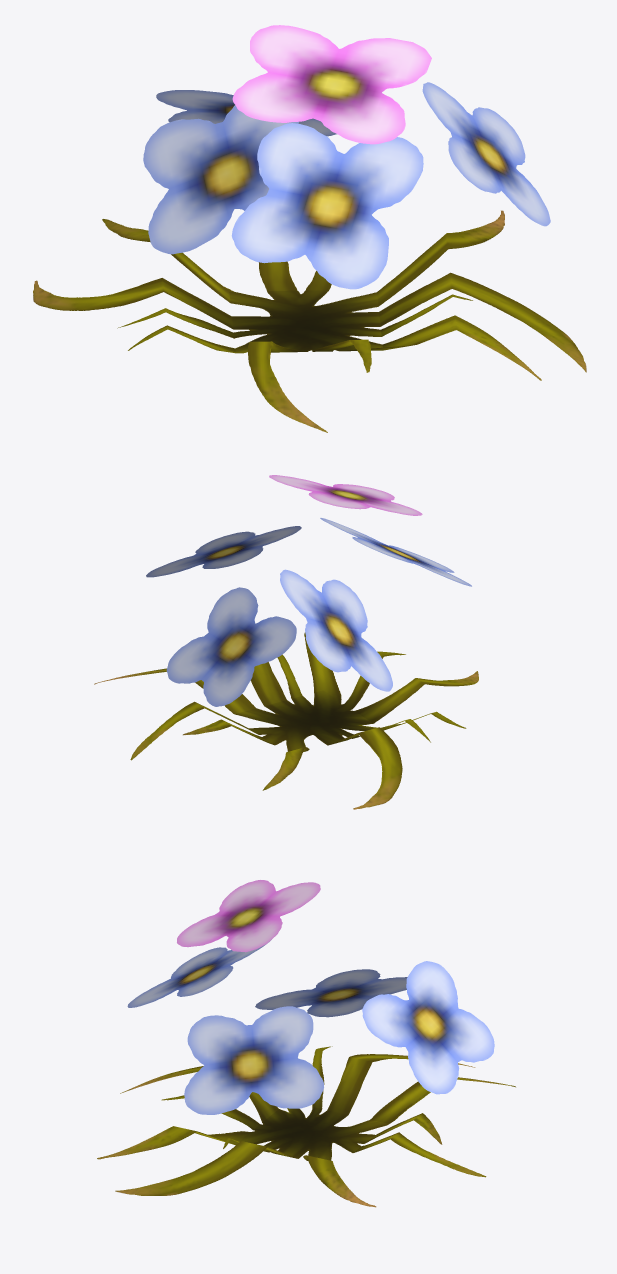
File: flowerC.fbx
3 renders of one model, top to bottom at view 1: azimuth 30°, elevation 25°; view 2: azimuth 150°, elevation 25°; view 3: azimuth 270°, elevation 25°, orthographic. The views are drawn at different scales.
Parts seen in each view (by area): view 1: flowerC; view 2: flowerC; view 3: flowerC.
Boxes of the visible parts, left/top/right/bottom form: flowerC: left=33, top=25, right=586, bottom=432; flowerC: left=94, top=475, right=478, bottom=809; flowerC: left=97, top=880, right=515, bottom=1207.
Size of the model in its own units: 92.42 by 41.02 by 91.8.
1 material, 1 textured.
